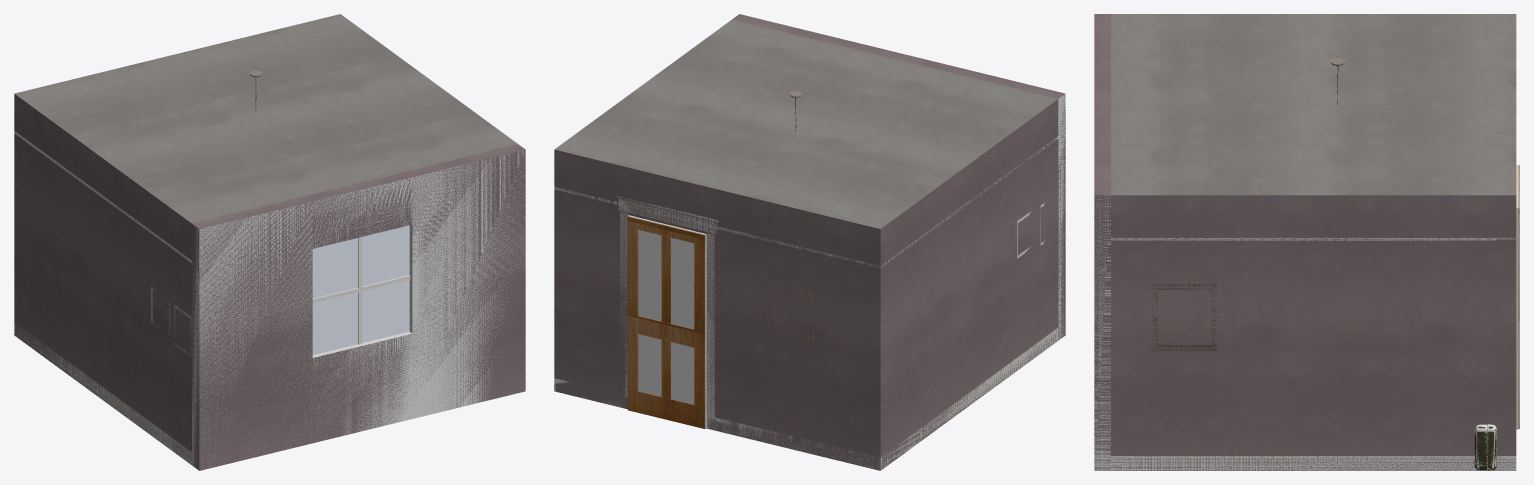
Rendered from ivy.glb.
3 views of the same model, side by side, from view 1: azimuth 30°, elevation 25°; view 2: azimuth 150°, elevation 25°; view 3: azimuth 270°, elevation 25° (orthographic). The views are drawn at different scales.
Visible parts, largest first — view 1: ivy_static, COL_static, window_glass; view 2: ivy_static, DYN_door_hall, I_door_hall, COL_static; view 3: ivy_static, COL_static, I_door_hall, DYN_door_hall.
Boxes of the visible parts, left/top/right/bottom form: ivy_static: left=14, top=14, right=525, bottom=470; COL_static: left=14, top=131, right=525, bottom=468; window_glass: left=312, top=225, right=409, bottom=354; ivy_static: left=554, top=14, right=1065, bottom=470; DYN_door_hall: left=627, top=216, right=705, bottom=428; I_door_hall: left=628, top=215, right=706, bottom=429; COL_static: left=554, top=94, right=1065, bottom=459; ivy_static: left=1094, top=14, right=1516, bottom=470; COL_static: left=1094, top=195, right=1516, bottom=470; I_door_hall: left=1516, top=164, right=1518, bottom=429; DYN_door_hall: left=1518, top=165, right=1519, bottom=428.
Size of the model in its own units: 3.64 by 2.98 by 3.57.
51 materials, 27 textured.
